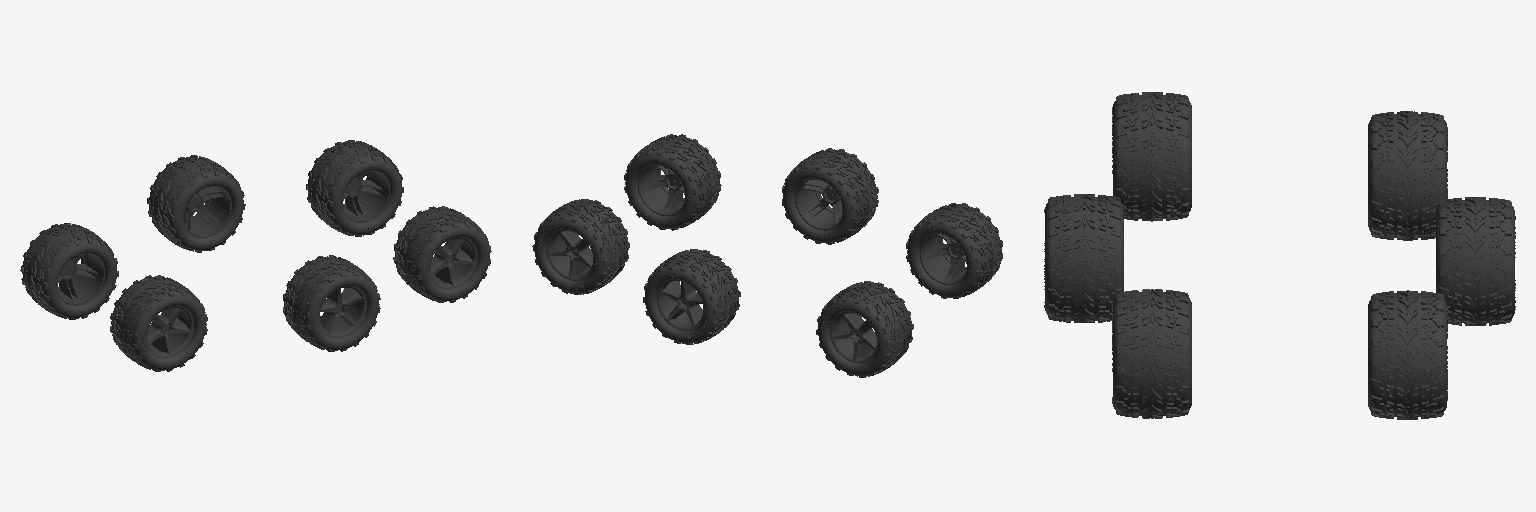
robot.urdf — osr_description:
<?xml version="1.0" encoding="utf-8"?>
<!-- This URDF was automatically created by SolidWorks to URDF Exporter! Originally created by [author] ([email redacted]) 
     Commit Version: 1.5.1-0-g916b5db  Build Version: 1.5.7152.31018
     For more information, please see http://wiki.ros.org/sw_urdf_exporter -->
<robot
  name="osr_description">
  <link
    name="base_link">
    <inertial>
      <origin
        xyz="-0.097539 -0.0014226 0.20698"
        rpy="0 0 0" />
      <mass
        value="2.2246" />
      <inertia
        ixx="0.0052023"
        ixy="4.6363E-11"
        ixz="0.00087959"
        iyy="0.008125"
        iyz="1.5506E-11"
        izz="0.012098" />
    </inertial>
    <visual>
      <origin
        xyz="0 0 0"
        rpy="0 0 0" />
      <geometry>
        <mesh
          filename="package://osr_description/meshes/base_link.STL" />
      </geometry>
      <material
        name="">
        <color
          rgba="0.89804 0.91765 0.92941 1" />
      </material>
    </visual>
    <collision>
      <origin
        xyz="0 0 0"
        rpy="0 0 0" />
      <geometry>
        <mesh
          filename="package://osr_description/meshes/base_link.STL" />
      </geometry>
    </collision>
  </link>
  <link
    name="left_rocker">
    <inertial>
      <origin
        xyz="0.017902 0.034653 0.068303"
        rpy="0 0 0" />
      <mass
        value="0.39081" />
      <inertia
        ixx="0.00067254"
        ixy="-3.7187E-07"
        ixz="9.8774E-10"
        iyy="0.00063353"
        iyz="-3.9895E-05"
        izz="0.00017004" />
    </inertial>
    <visual>
      <origin
        xyz="0 0 0"
        rpy="0 0 0" />
      <geometry>
        <mesh
          filename="package://osr_description/meshes/left_rocker.STL" />
      </geometry>
      <material
        name="">
        <color
          rgba="0.89804 0.91765 0.92941 1" />
      </material>
    </visual>
    <collision>
      <origin
        xyz="0 0 0"
        rpy="0 0 0" />
      <geometry>
        <mesh
          filename="package://osr_description/meshes/left_rocker.STL" />
      </geometry>
    </collision>
  </link>
  <joint
    name="body_axis_left"
    type="continuous">
    <origin
      xyz="-0.263500464134776 0.18018125 0.225295670634321"
      rpy="-1.53745923062483 0 -1.5707963267949" />
    <parent
      link="base_link" />
    <child
      link="left_rocker" />
    <axis
      xyz="0 0 1" />
  </joint>
  <link
    name="left_bogie">
    <inertial>
      <origin
        xyz="0.0159129563261055 0.0789338362309541 0.0323269291487249"
        rpy="0 0 0" />
      <mass
        value="0.435073039460992" />
      <inertia
        ixx="0.00034539052621273"
        ixy="-2.9766405962614E-07"
        ixz="-8.21364529852435E-08"
        iyy="0.000272959531000673"
        iyz="7.4859493487776E-05"
        izz="0.000207579636692038" />
    </inertial>
    <visual>
      <origin
        xyz="0 0 0"
        rpy="0 0 0" />
      <geometry>
        <mesh
          filename="package://osr_description/meshes/left_bogie.STL" />
      </geometry>
      <material
        name="">
        <color
          rgba="0.898039215686275 0.917647058823529 0.929411764705882 1" />
      </material>
    </visual>
    <collision>
      <origin
        xyz="0 0 0"
        rpy="0 0 0" />
      <geometry>
        <mesh
          filename="package://osr_description/meshes/left_bogie.STL" />
      </geometry>
    </collision>
  </link>
  <joint
    name="left_lb_axis"
    type="continuous">
    <origin
      xyz="0 0.024945 0.37574"
      rpy="0.033199 0 0" />
    <parent
      link="left_rocker" />
    <child
      link="left_bogie" />
    <axis
      xyz="0 0 1" />
    <limit
      lower="0"
      upper="0"
      effort="0"
      velocity="0" />
  </joint>
  <link
    name="front_left_corner">
    <inertial>
      <origin
        xyz="0.0190937789272759 0.0853204048254746 0.077709822040233"
        rpy="0 0 0" />
      <mass
        value="0.17724666596752" />
      <inertia
        ixx="0.000121212210844654"
        ixy="1.54229981527862E-07"
        ixz="8.01987687482812E-08"
        iyy="0.000117864441943387"
        iyz="7.74538805481638E-08"
        izz="7.62771536974882E-05" />
    </inertial>
    <visual>
      <origin
        xyz="0 0 0"
        rpy="0 0 0" />
      <geometry>
        <mesh
          filename="package://osr_description/meshes/front_left_corner.STL" />
      </geometry>
      <material
        name="">
        <color
          rgba="0.898039215686275 0.917647058823529 0.929411764705882 1" />
      </material>
    </visual>
    <collision>
      <origin
        xyz="0 0 0"
        rpy="0 0 0" />
      <geometry>
        <mesh
          filename="package://osr_description/meshes/front_left_corner.STL" />
      </geometry>
    </collision>
  </link>
  <joint
    name="front_left_corner_joint"
    type="continuous">
    <origin
      xyz="0 0.088265 0.17145"
      rpy="0 1.5708 0" />
    <parent
      link="left_bogie" />
    <child
      link="front_left_corner" />
    <axis
      xyz="0 0 1" />
    <limit
      lower="0"
      upper="0"
      effort="0"
      velocity="0" />
  </joint>
  <link
    name="front_left_wheel">
    <inertial>
      <origin
        xyz="0.000920086014966209 -3.49804150534538E-07 -1.05298539741783E-07"
        rpy="0 0 0" />
      <mass
        value="1.42144024715653" />
      <inertia
        ixx="0.00582217468219605"
        ixy="1.07432654038825E-07"
        ixz="-7.79477192520769E-08"
        iyy="0.00388788055438553"
        iyz="9.18692750520014E-08"
        izz="0.00388799980724153" />
    </inertial>
    <visual>
      <origin
        xyz="0 0 0"
        rpy="0 0 0" />
      <geometry>
        <mesh
          filename="package://osr_description/meshes/front_left_wheel.STL" />
      </geometry>
      <material
        name="">
        <color
          rgba="0.294117647058824 0.294117647058824 0.294117647058824 1" />
      </material>
    </visual>
    <collision>
      <origin
        xyz="0 0 0"
        rpy="0 0 0" />
      <geometry>
        <mesh
          filename="package://osr_description/meshes/front_left_wheel.STL" />
      </geometry>
    </collision>
  </link>
  <joint
    name="front_left_drive_joint"
    type="continuous">
    <origin
      xyz="0.01905 0.13525 0.019048"
      rpy="1.5708 1.5708 0" />
    <parent
      link="front_left_corner" />
    <child
      link="front_left_wheel" />
    <axis
      xyz="0 0 1" />
  </joint>
  <link
    name="middle_left_wheel">
    <inertial>
      <origin
        xyz="0.000920091215166313 -8.1005955020645E-07 -1.66036282058251E-07"
        rpy="0 0 0" />
      <mass
        value="1.42143821576089" />
      <inertia
        ixx="0.00582217347159971"
        ixy="1.07745302000017E-07"
        ixz="-7.84503139343577E-08"
        iyy="0.00388787940367472"
        iyz="9.13379014825339E-08"
        izz="0.00388799915296369" />
    </inertial>
    <visual>
      <origin
        xyz="0 0 0"
        rpy="0 0 0" />
      <geometry>
        <mesh
          filename="package://osr_description/meshes/middle_left_wheel.STL" />
      </geometry>
      <material
        name="">
        <color
          rgba="0.294117647058824 0.294117647058824 0.294117647058824 1" />
      </material>
    </visual>
    <collision>
      <origin
        xyz="0 0 0"
        rpy="0 0 0" />
      <geometry>
        <mesh
          filename="package://osr_description/meshes/middle_left_wheel.STL" />
      </geometry>
    </collision>
  </link>
  <joint
    name="middle_left_drive_joint"
    type="continuous">
    <origin
      xyz="-0.066529 0.20491 -0.12676"
      rpy="1.6093 0 3.1416" />
    <parent
      link="left_bogie" />
    <child
      link="middle_left_wheel" />
    <axis
      xyz="0 0 1" />
  </joint>
  <link
    name="back_left_corner">
    <inertial>
      <origin
        xyz="4.37788521762128E-05 0.105384356290001 0.0586598203203101"
        rpy="0 0 0" />
      <mass
        value="0.177246661317524" />
      <inertia
        ixx="0.000121212211034307"
        ixy="1.54229839424617E-07"
        ixz="8.01987471422673E-08"
        iyy="0.000117864441990022"
        iyz="7.7453855401968E-08"
        izz="7.6277153938417E-05" />
    </inertial>
    <visual>
      <origin
        xyz="0 0 0"
        rpy="0 0 0" />
      <geometry>
        <mesh
          filename="package://osr_description/meshes/back_left_corner.STL" />
      </geometry>
      <material
        name="">
        <color
          rgba="0.898039215686275 0.917647058823529 0.929411764705882 1" />
      </material>
    </visual>
    <collision>
      <origin
        xyz="0 0 0"
        rpy="0 0 0" />
      <geometry>
        <mesh
          filename="package://osr_description/meshes/back_left_corner.STL" />
      </geometry>
    </collision>
  </link>
  <joint
    name="back_left_corner_joint"
    type="continuous">
    <origin
      xyz="0.01905 0.068201 -0.05715"
      rpy="0 1.5708 0" />
    <parent
      link="left_rocker" />
    <child
      link="back_left_corner" />
    <axis
      xyz="0 0 1" />
    <limit
      lower="0"
      upper="0"
      effort="0"
      velocity="0" />
  </joint>
  <link
    name="back_left_wheel">
    <inertial>
      <origin
        xyz="0.000922287007112749 -8.36428904582576E-07 0.0887645961886513"
        rpy="0 0 0" />
      <mass
        value="1.42144269074226" />
      <inertia
        ixx="0.00582217607560816"
        ixy="1.07333187365085E-07"
        ixz="-7.85893990506594E-08"
        iyy="0.00388788209482116"
        iyz="9.17567327097483E-08"
        izz="0.00388800033758064" />
    </inertial>
    <visual>
      <origin
        xyz="0 0 0"
        rpy="0 0 0" />
      <geometry>
        <mesh
          filename="package://osr_description/meshes/back_left_wheel.STL" />
      </geometry>
      <material
        name="">
        <color
          rgba="0.294117647058824 0.294117647058824 0.294117647058824 1" />
      </material>
    </visual>
    <collision>
      <origin
        xyz="0 0 0"
        rpy="0 0 0" />
      <geometry>
        <mesh
          filename="package://osr_description/meshes/back_left_wheel.STL" />
      </geometry>
    </collision>
  </link>
  <joint
    name="back_left_drive_joint"
    type="continuous">
    <origin
      xyz="0 0.2705 0"
      rpy="1.5708 1.5708 0" />
    <parent
      link="back_left_corner" />
    <child
      link="back_left_wheel" />
    <axis
      xyz="0 0 1" />
  </joint>
  <link
    name="right_rocker">
    <inertial>
      <origin
        xyz="0.0201331745640703 0.0396148629745278 0.0598789015222227"
        rpy="0 0 0" />
      <mass
        value="0.381629355089281" />
      <inertia
        ixx="0.000666215133650903"
        ixy="3.70788294288064E-07"
        ixz="-1.10122213246343E-08"
        iyy="0.00063434032917477"
        iyz="-3.98950562973382E-05"
        izz="0.000163832909158247" />
    </inertial>
    <visual>
      <origin
        xyz="0 0 0"
        rpy="0 0 0" />
      <geometry>
        <mesh
          filename="package://osr_description/meshes/right_rocker.STL" />
      </geometry>
      <material
        name="">
        <color
          rgba="0.898039215686275 0.917647058823529 0.929411764705882 1" />
      </material>
    </visual>
    <collision>
      <origin
        xyz="0 0 0"
        rpy="0 0 0" />
      <geometry>
        <mesh
          filename="package://osr_description/meshes/right_rocker.STL" />
      </geometry>
    </collision>
  </link>
  <joint
    name="body_axis_right"
    type="continuous">
    <origin
      xyz="-0.2635 -0.14208 0.2253"
      rpy="-1.5375 0 -1.5708" />
    <parent
      link="base_link" />
    <child
      link="right_rocker" />
    <axis
      xyz="0 0 1" />
    <limit
      lower="0"
      upper="0"
      effort="0"
      velocity="0" />
  </joint>
  <link
    name="right_bogie">
    <inertial>
      <origin
        xyz="-0.0322054844419332 0.0247135791959508 0.0481289019743297"
        rpy="0 0 0" />
      <mass
        value="0.458946835321546" />
      <inertia
        ixx="0.000172516702455356"
        ixy="-2.68465768927094E-07"
        ixz="3.32684300786504E-05"
        iyy="0.000353362772556815"
        iyz="-1.52307314040597E-07"
        izz="0.000322867252262944" />
    </inertial>
    <visual>
      <origin
        xyz="0 0 0"
        rpy="0 0 0" />
      <geometry>
        <mesh
          filename="package://osr_description/meshes/right_bogie.STL" />
      </geometry>
      <material
        name="">
        <color
          rgba="0.898039215686275 0.917647058823529 0.929411764705882 1" />
      </material>
    </visual>
    <collision>
      <origin
        xyz="0 0 0"
        rpy="0 0 0" />
      <geometry>
        <mesh
          filename="package://osr_description/meshes/right_bogie.STL" />
      </geometry>
    </collision>
  </link>
  <joint
    name="right_rb_axis"
    type="continuous">
    <origin
      xyz="0.046482 0.099959 0.34434"
      rpy="0 0.78862 1.5708" />
    <parent
      link="right_rocker" />
    <child
      link="right_bogie" />
    <axis
      xyz="0 0 1" />
    <limit
      lower="0"
      upper="0"
      effort="0"
      velocity="0" />
  </joint>
  <link
    name="front_right_corner">
    <inertial>
      <origin
        xyz="0.0189471511851323 0.0845029114552065 0.0788332743794987"
        rpy="0 0 0" />
      <mass
        value="0.170898118027162" />
      <inertia
        ixx="0.000119924517297295"
        ixy="1.52374177678027E-07"
        ixz="8.01988900458528E-08"
        iyy="0.000116721350874422"
        iyz="7.74901904912062E-08"
        izz="7.38122418529157E-05" />
    </inertial>
    <visual>
      <origin
        xyz="0 0 0"
        rpy="0 0 0" />
      <geometry>
        <mesh
          filename="package://osr_description/meshes/front_right_corner.STL" />
      </geometry>
      <material
        name="">
        <color
          rgba="0.898039215686275 0.917647058823529 0.929411764705882 1" />
      </material>
    </visual>
    <collision>
      <origin
        xyz="0 0 0"
        rpy="0 0 0" />
      <geometry>
        <mesh
          filename="package://osr_description/meshes/front_right_corner.STL" />
      </geometry>
    </collision>
  </link>
  <joint
    name="front_right_corner_joint"
    type="continuous">
    <origin
      xyz="-0.11358 0.008382 0.12426"
      rpy="1.5708 -0.7854 -3.1416" />
    <parent
      link="right_bogie" />
    <child
      link="front_right_corner" />
    <axis
      xyz="0 0 1" />
    <limit
      lower="0"
      upper="0"
      effort="0"
      velocity="0" />
  </joint>
  <link
    name="front_right_wheel">
    <inertial>
      <origin
        xyz="0.000920077477292003 -3.57187452337815E-07 -6.26439688854868E-08"
        rpy="0 0 0" />
      <mass
        value="1.42144213943392" />
      <inertia
        ixx="0.00582217577923824"
        ixy="1.0740566975468E-07"
        ixz="-7.84764297531393E-08"
        iyy="0.00388788180662093"
        iyz="9.17913062171218E-08"
        izz="0.00388799991063227" />
    </inertial>
    <visual>
      <origin
        xyz="0 0 0"
        rpy="0 0 0" />
      <geometry>
        <mesh
          filename="package://osr_description/meshes/front_right_wheel.STL" />
      </geometry>
      <material
        name="">
        <color
          rgba="0.294117647058824 0.294117647058824 0.294117647058824 1" />
      </material>
    </visual>
    <collision>
      <origin
        xyz="0 0 0"
        rpy="0 0 0" />
      <geometry>
        <mesh
          filename="package://osr_description/meshes/front_right_wheel.STL" />
      </geometry>
    </collision>
  </link>
  <joint
    name="front_right_drive_joint"
    type="continuous">
    <origin
      xyz="0.01905 0.13525 0.019048"
      rpy="1.5708 1.5708 0" />
    <parent
      link="front_right_corner" />
    <child
      link="front_right_wheel" />
    <axis
      xyz="0 0 1" />
  </joint>
  <link
    name="right_middle_wheel">
    <inertial>
      <origin
        xyz="0.000920085743422172 -3.33102865375003E-07 -9.23430030241347E-08"
        rpy="0 0 0" />
      <mass
        value="1.42144066677999" />
      <inertia
        ixx="0.0058221748631648"
        ixy="1.0778342758596E-07"
        ixz="-7.90685859479044E-08"
        iyy="0.00388788096645154"
        iyz="9.13237951596533E-08"
        izz="0.00388799967352275" />
    </inertial>
    <visual>
      <origin
        xyz="0 0 0"
        rpy="0 0 0" />
      <geometry>
        <mesh
          filename="package://osr_description/meshes/right_middle_wheel.STL" />
      </geometry>
      <material
        name="">
        <color
          rgba="0.294117647058824 0.294117647058824 0.294117647058824 1" />
      </material>
    </visual>
    <collision>
      <origin
        xyz="0 0 0"
        rpy="0 0 0" />
      <geometry>
        <mesh
          filename="package://osr_description/meshes/right_middle_wheel.STL" />
      </geometry>
    </collision>
  </link>
  <joint
    name="right_middle_drive_joint"
    type="continuous">
    <origin
      xyz="0.15833 -0.058147 0.02832"
      rpy="-0.74693 0 -1.5708" />
    <parent
      link="right_bogie" />
    <child
      link="right_middle_wheel" />
    <axis
      xyz="0 0 1" />
  </joint>
  <link
    name="back_right_corner">
    <inertial>
      <origin
        xyz="0.0189471511851824 0.0845029114361343 0.0788332743737901"
        rpy="0 0 0" />
      <mass
        value="0.170898117963101" />
      <inertia
        ixx="0.000119924517297052"
        ixy="1.5237417760746E-07"
        ixz="8.01988900562086E-08"
        iyy="0.00011672135087429"
        iyz="7.74901904905798E-08"
        izz="7.38122418528905E-05" />
    </inertial>
    <visual>
      <origin
        xyz="0 0 0"
        rpy="0 0 0" />
      <geometry>
        <mesh
          filename="package://osr_description/meshes/back_right_corner.STL" />
      </geometry>
      <material
        name="">
        <color
          rgba="0.898039215686275 0.917647058823529 0.929411764705882 1" />
      </material>
    </visual>
    <collision>
      <origin
        xyz="0 0 0"
        rpy="0 0 0" />
      <geometry>
        <mesh
          filename="package://osr_description/meshes/back_right_corner.STL" />
      </geometry>
    </collision>
  </link>
  <joint
    name="back_right_corner_joint"
    type="continuous">
    <origin
      xyz="0.0381 0.088265 -0.0762"
      rpy="0 -1.5708 0" />
    <parent
      link="right_rocker" />
    <child
      link="back_right_corner" />
    <axis
      xyz="0 0 1" />
    <limit
      lower="0"
      upper="0"
      effort="0"
      velocity="0" />
  </joint>
  <link
    name="back_right_wheel">
    <inertial>
      <origin
        xyz="0.000920081268053069 -3.61358454936678E-07 -1.86920939030874E-07"
        rpy="0 0 0" />
      <mass
        value="1.42144229319736" />
      <inertia
        ixx="0.00582217590586419"
        ixy="1.07407175455419E-07"
        ixz="-7.85543312223584E-08"
        iyy="0.00388788206482551"
        iyz="9.18001364360943E-08"
        izz="0.00388800014815902" />
    </inertial>
    <visual>
      <origin
        xyz="0 0 0"
        rpy="0 0 0" />
      <geometry>
        <mesh
          filename="package://osr_description/meshes/back_right_wheel.STL" />
      </geometry>
      <material
        name="">
        <color
          rgba="0.294117647058824 0.294117647058824 0.294117647058824 1" />
      </material>
    </visual>
    <collision>
      <origin
        xyz="0 0 0"
        rpy="0 0 0" />
      <geometry>
        <mesh
          filename="package://osr_description/meshes/back_right_wheel.STL" />
      </geometry>
    </collision>
  </link>
  <joint
    name="back_right_drive_joint"
    type="continuous">
    <origin
      xyz="0.01905 0.13525 0.019048"
      rpy="1.5708 1.5708 0" />
    <parent
      link="back_right_corner" />
    <child
      link="back_right_wheel" />
    <axis
      xyz="0 0 1" />
  </joint>
</robot>

--- Facts derived from the render (not from the file) ---
3 views of the same robot in one strip: view 1: azimuth 30°, elevation 25°; view 2: azimuth 150°, elevation 25°; view 3: azimuth 270°, elevation 25° (orthographic).
Model osr_description with 15 links and 14 joints (14 continuous), rooted at base_link, posed every joint at zero.
Links seen in each view (by area): view 1: middle_left_wheel, front_right_wheel, back_right_wheel, back_left_wheel, right_middle_wheel, front_left_wheel; view 2: right_middle_wheel, back_left_wheel, back_right_wheel, front_left_wheel, middle_left_wheel, front_right_wheel; view 3: front_left_wheel, front_right_wheel, back_right_wheel, right_middle_wheel, middle_left_wheel, back_left_wheel.
Boxes of the visible links, bbox=[...] form: middle_left_wheel: bbox=[147, 155, 245, 252]; front_right_wheel: bbox=[393, 206, 491, 302]; back_right_wheel: bbox=[110, 275, 207, 371]; back_left_wheel: bbox=[20, 223, 118, 319]; right_middle_wheel: bbox=[283, 255, 380, 351]; front_left_wheel: bbox=[306, 140, 403, 236]; right_middle_wheel: bbox=[782, 148, 878, 244]; back_left_wheel: bbox=[816, 281, 913, 377]; back_right_wheel: bbox=[906, 203, 1002, 298]; front_left_wheel: bbox=[532, 199, 629, 294]; middle_left_wheel: bbox=[643, 249, 740, 344]; front_right_wheel: bbox=[624, 134, 721, 230]; front_left_wheel: bbox=[1368, 290, 1447, 419]; front_right_wheel: bbox=[1112, 289, 1191, 418]; back_right_wheel: bbox=[1112, 92, 1191, 221]; right_middle_wheel: bbox=[1044, 194, 1123, 322]; middle_left_wheel: bbox=[1436, 197, 1515, 325]; back_left_wheel: bbox=[1368, 111, 1447, 240].
Bounding box of the posed robot: 0.7565 × 0.5945 × 0.1921 m (x, y, z).
6 mesh visuals loaded from 15 distinct referenced files (6 binary STL); not drawn: 9 (reference not matched to a file when rendering).